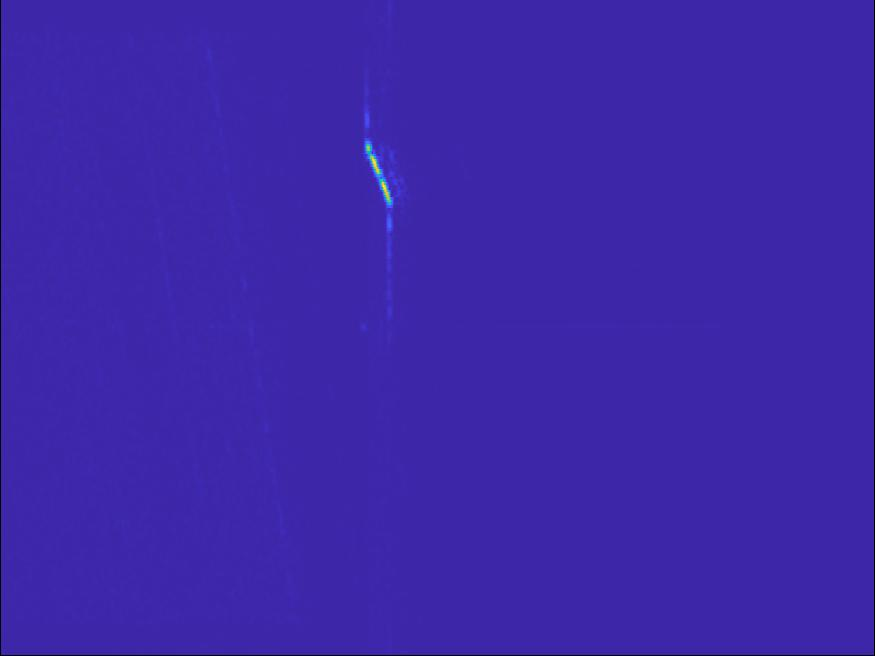Interference: (598, 112, 795, 258), (676, 288, 871, 379), (405, 1, 501, 60), (285, 408, 385, 452), (819, 285, 875, 334), (336, 554, 389, 594)
